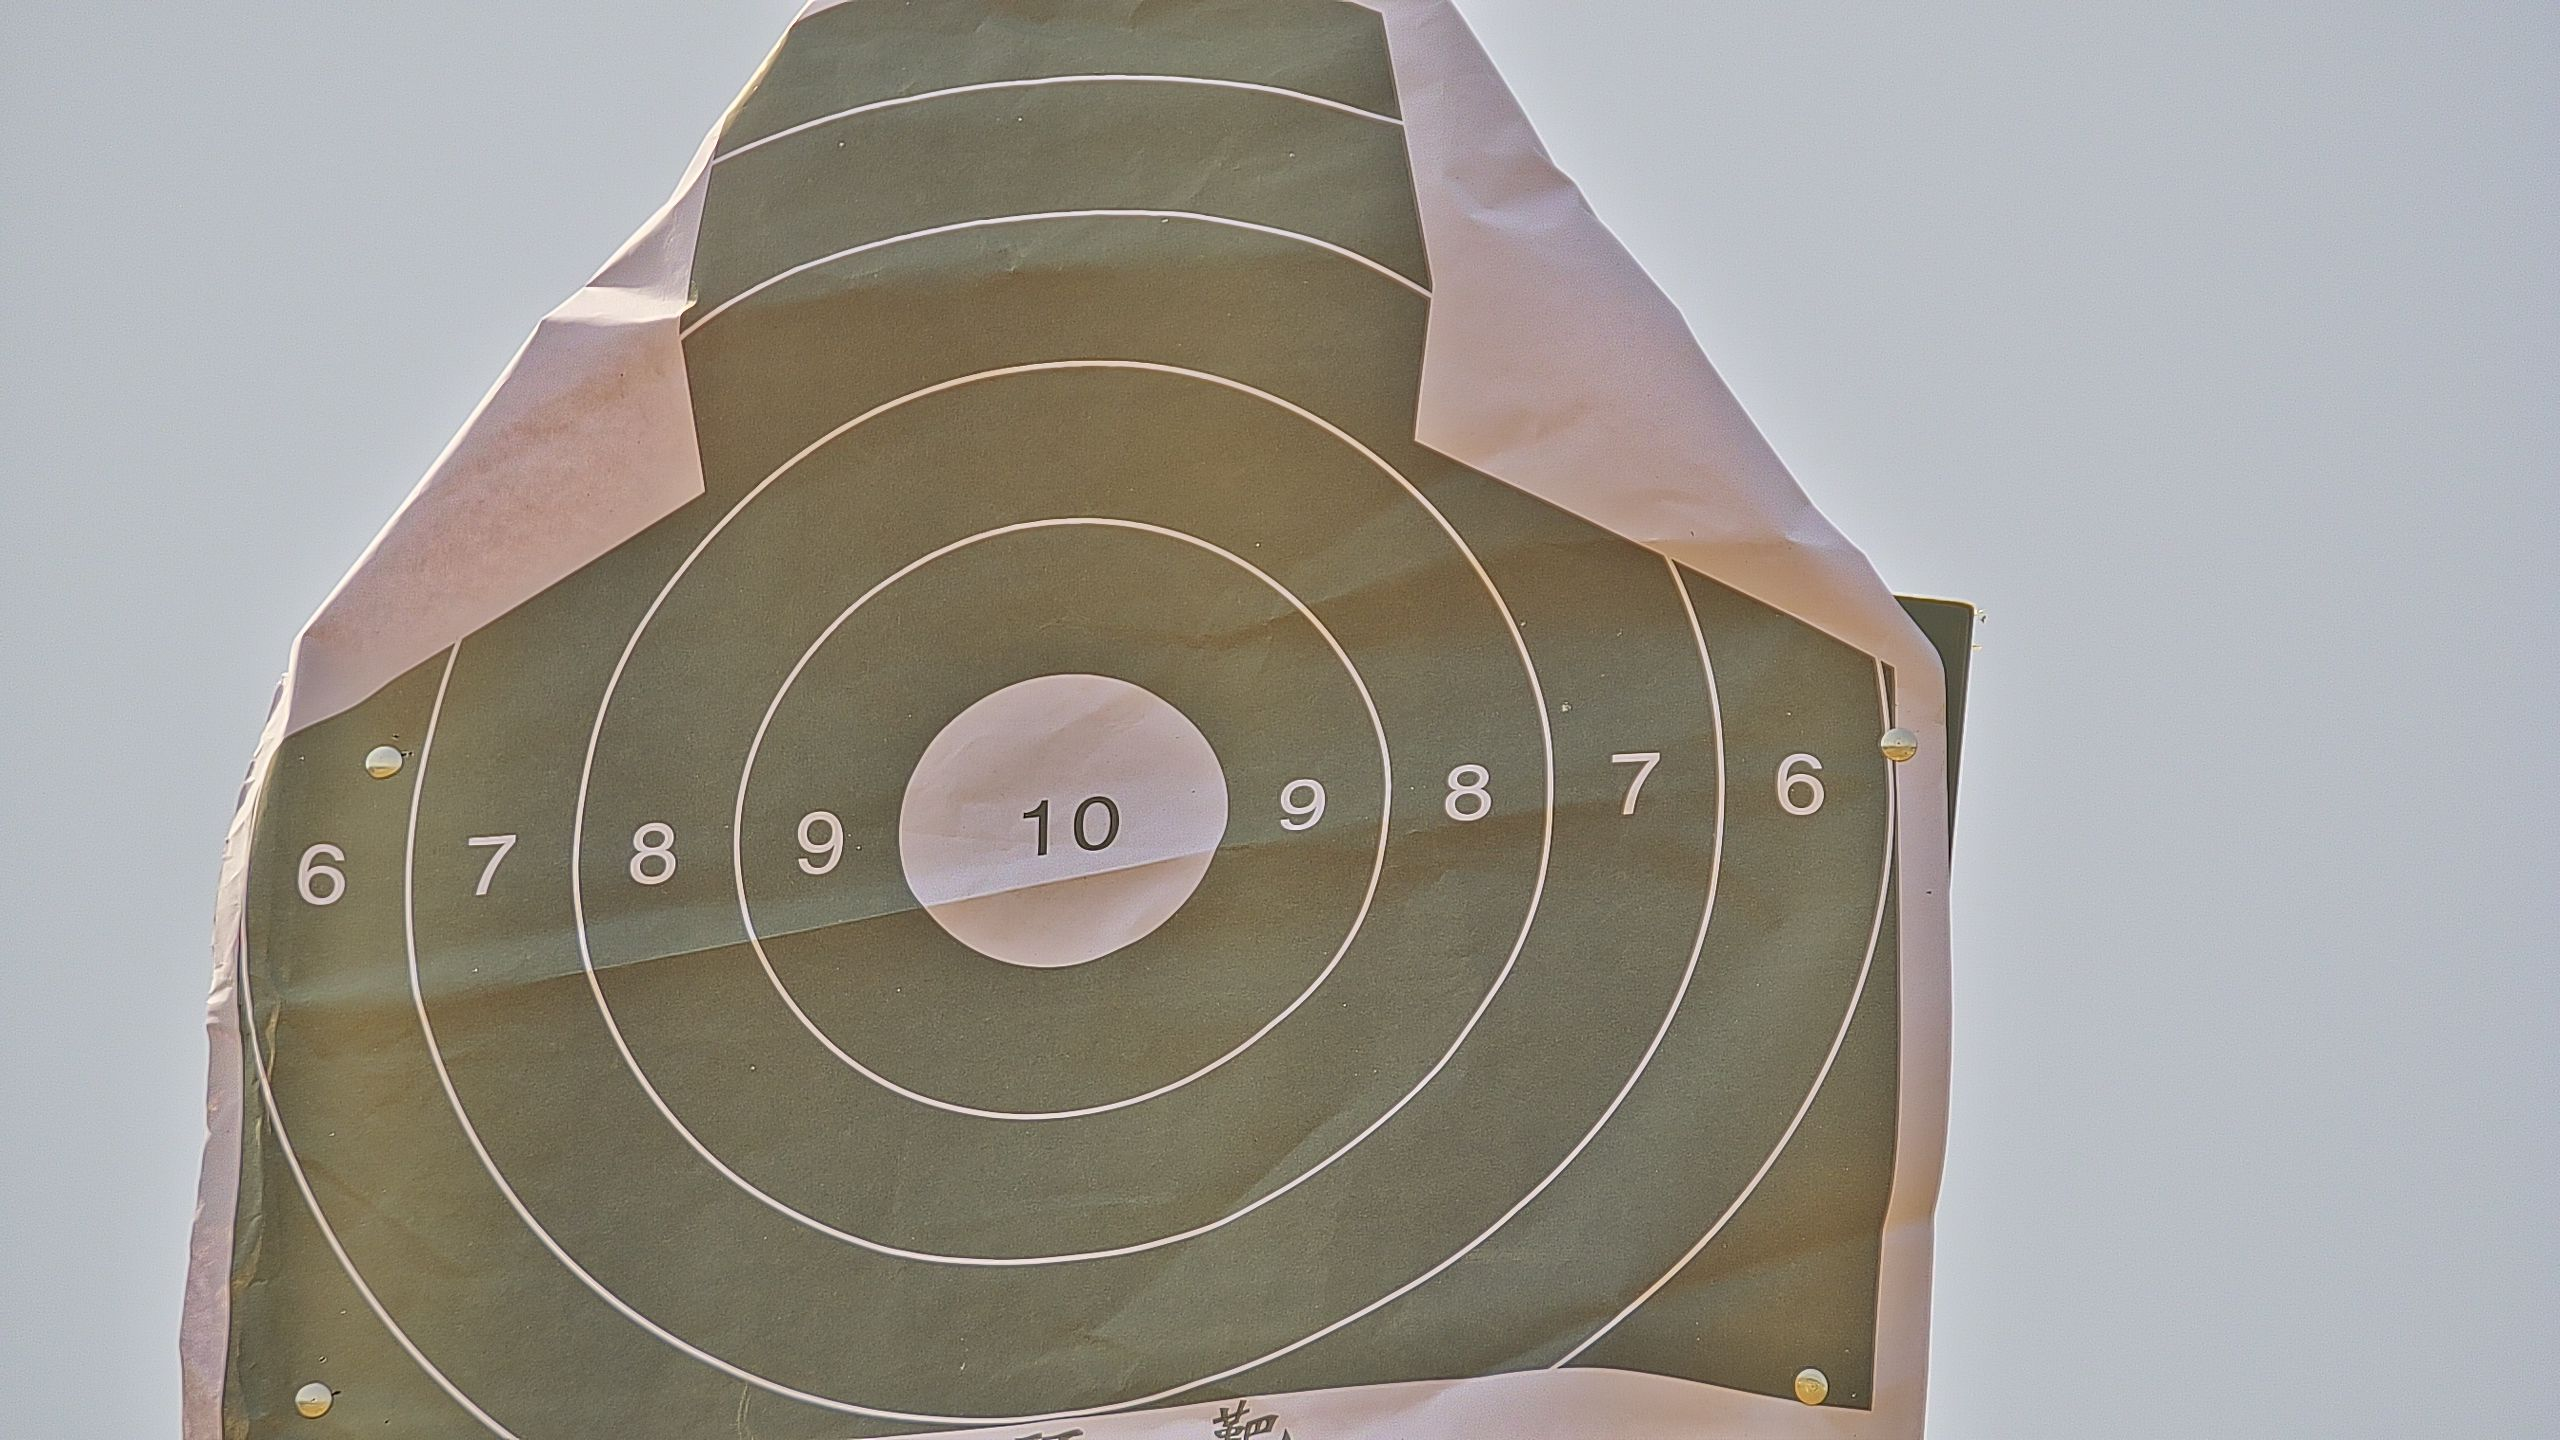kernel: (1058, 825, 1060, 832)
target: (188, 16, 1901, 1440)
ten: (898, 668, 1225, 969)
